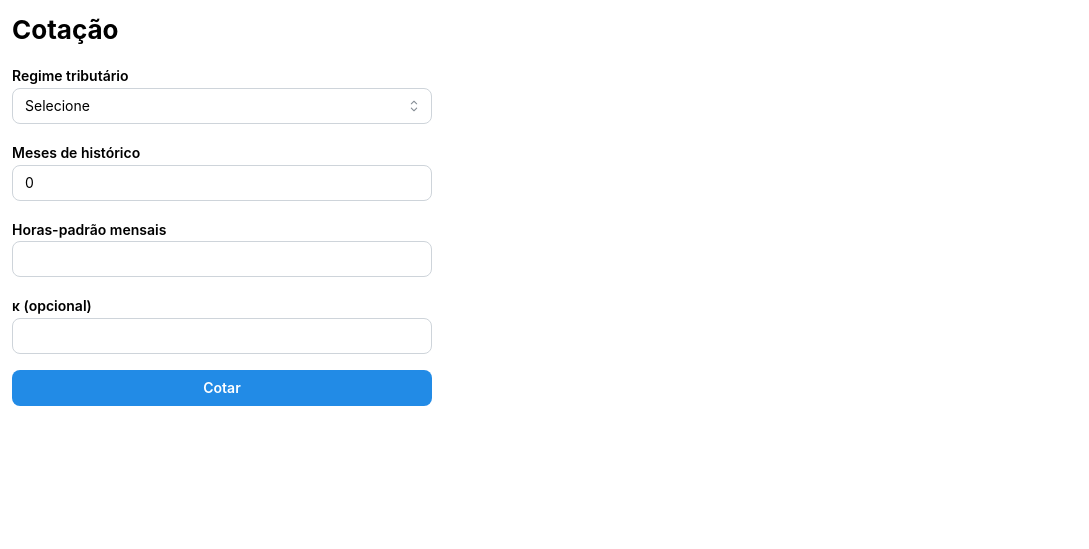
Test: cotação › sem histórico cota o piso do regime e marca como provisório
Select "Lucro Presumido" in the dropdown labelled "Regime tributário": (222, 106) 12,88 -> 432,124
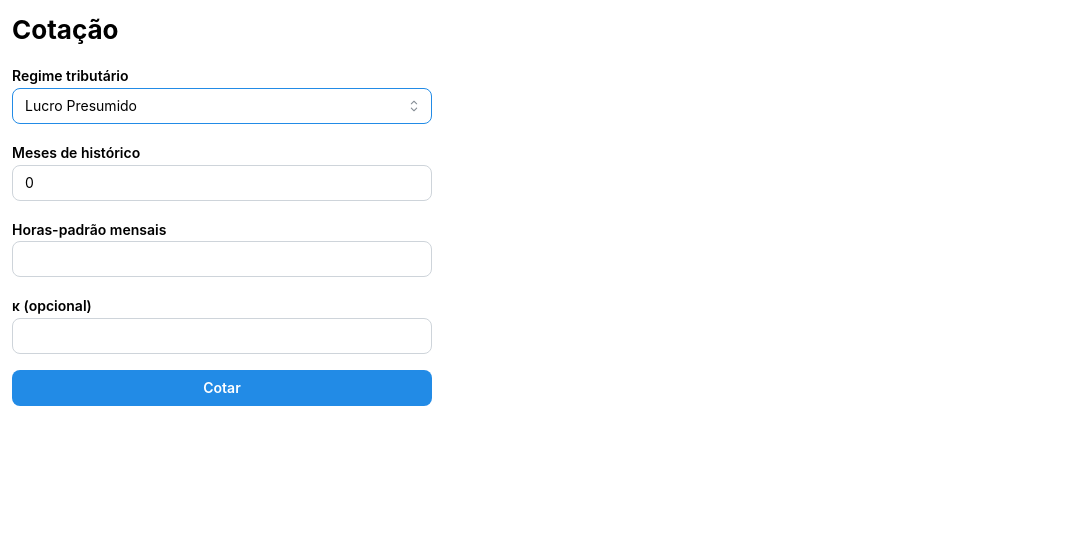
Click the button "Cotar": (222, 388) 12,370 -> 432,406
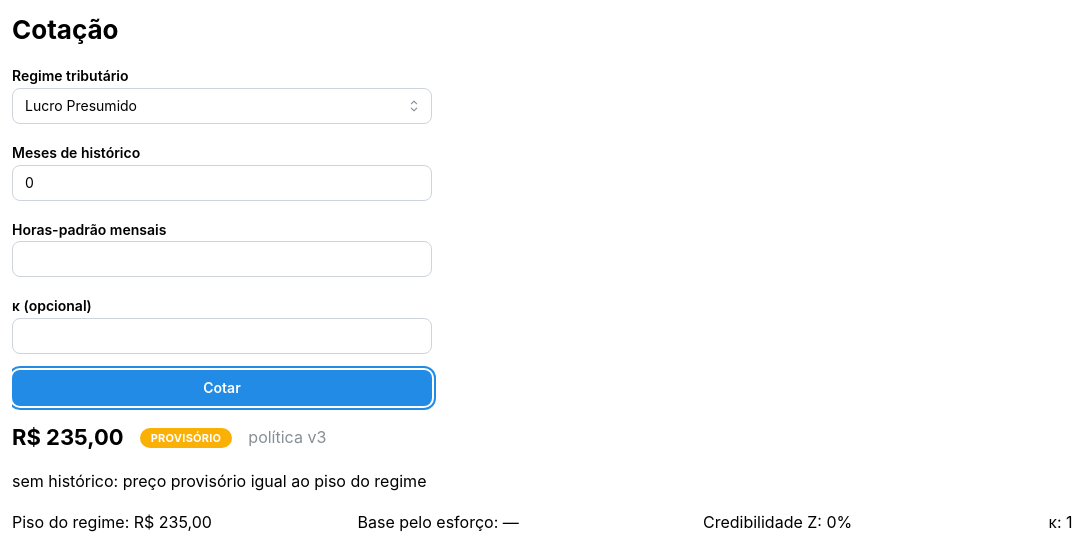
Check: the element with test id "cotacao" shows "R$ 235,00", box 12,424 -> 124,450
Check: the element with test id "cotacao" shows "Provisório", box 151,431 -> 221,445
Check: the element with test id "cotacao" shows "piso do regime", box 12,471 -> 426,491
